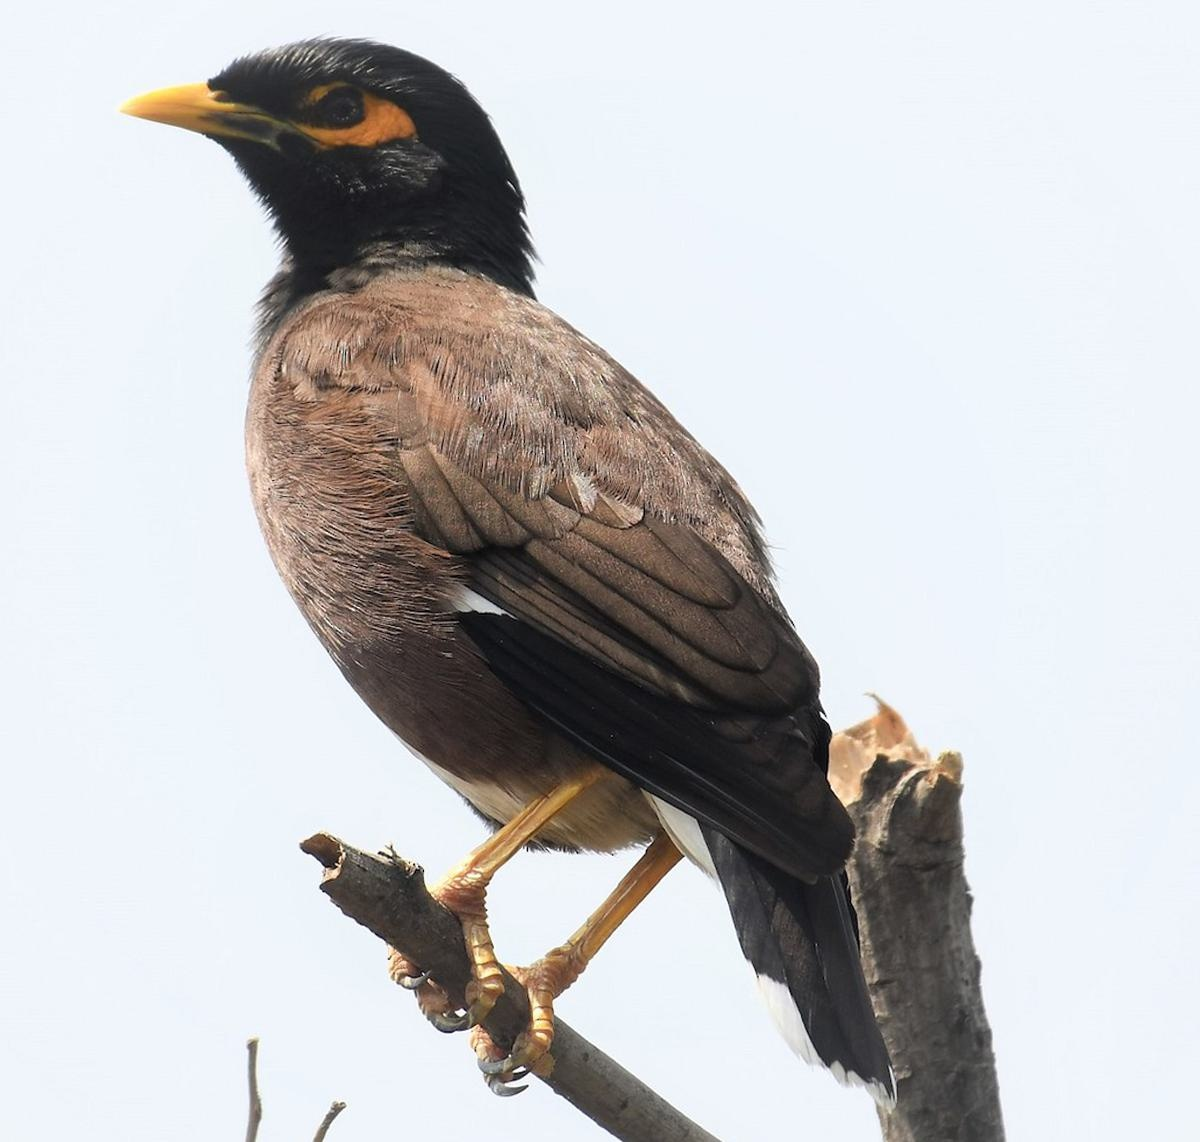myna: (120, 15, 941, 1092)
